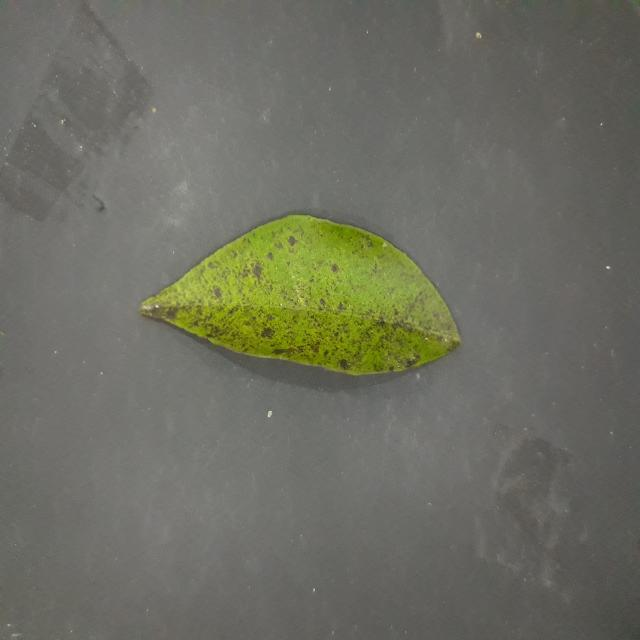greasy_spot: (140, 215, 459, 375)
